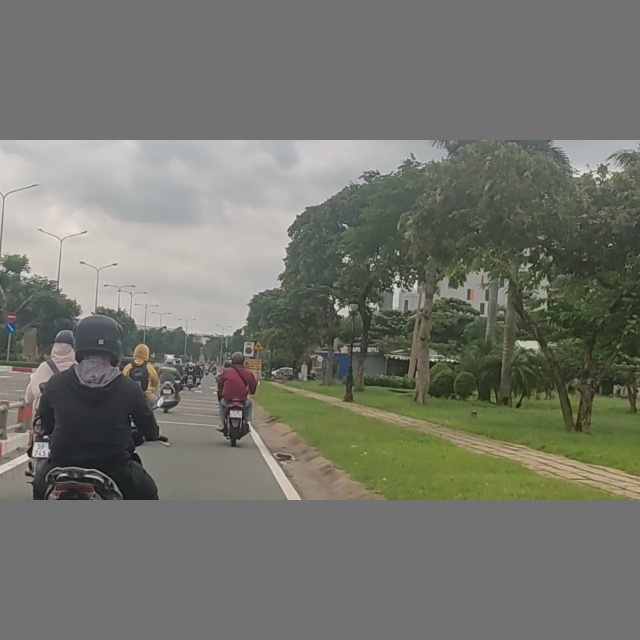P.102: (7, 311, 17, 321)
P.130: (246, 347, 253, 354)
R.302a: (6, 323, 17, 333)
W.225: (254, 339, 264, 349)
